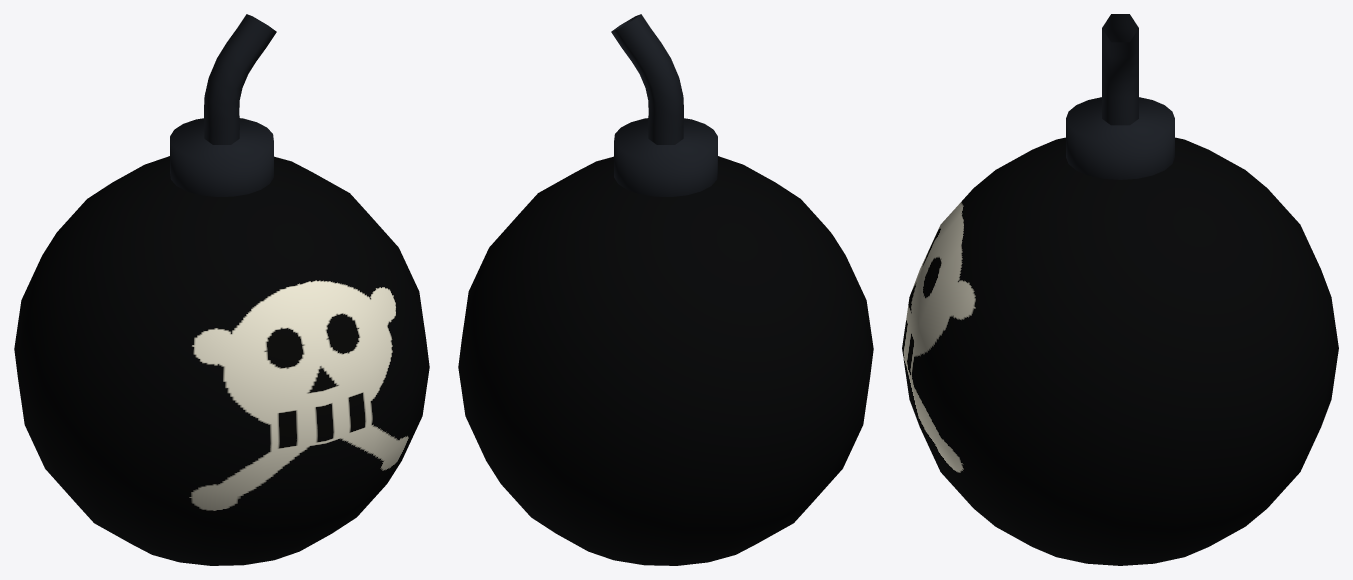
Rendered from SM_Bomb.fbx.
3 views of the same model, side by side, from view 1: azimuth 30°, elevation 25°; view 2: azimuth 150°, elevation 25°; view 3: azimuth 270°, elevation 25° (orthographic). The views are drawn at different scales.
Visible parts, largest first — view 1: SM_Bomb; view 2: SM_Bomb; view 3: SM_Bomb.
Boxes of the visible parts, x1,y1,x2,y2 form: SM_Bomb: [14, 14, 429, 565]; SM_Bomb: [458, 14, 873, 565]; SM_Bomb: [902, 14, 1338, 565].
Size of the model in its own units: 2 by 2 by 2.76.
Materials: 2 (1 with a texture image).
